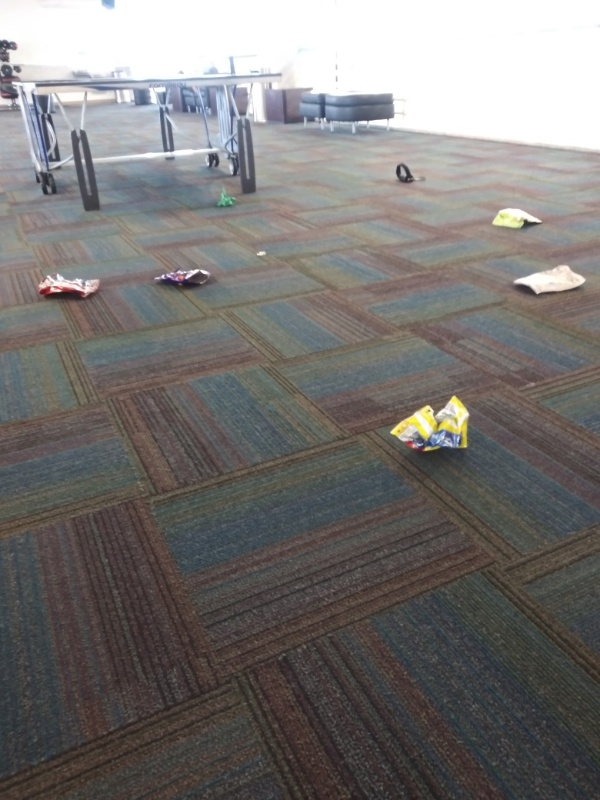bag: (387, 389, 472, 459), (509, 262, 587, 299), (32, 272, 104, 301), (153, 267, 215, 291), (489, 207, 545, 231)
